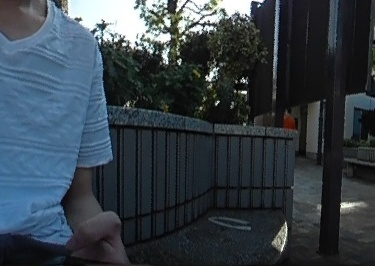person: (282, 106, 296, 127)
